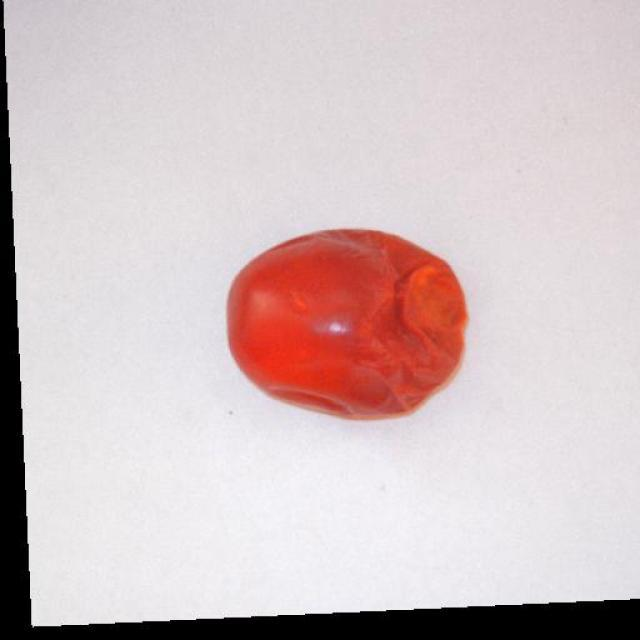Rotten Tomato: (214, 216, 472, 454)
